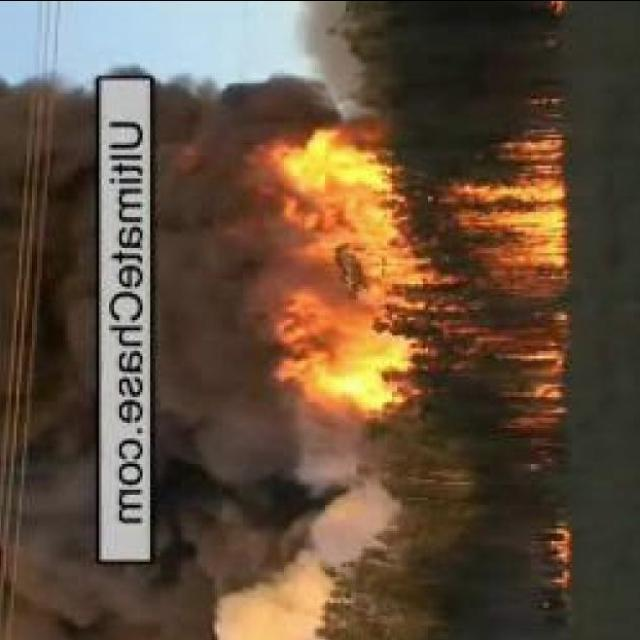Fire: (245, 127, 565, 418), (547, 529, 573, 589), (541, 1, 569, 13)
